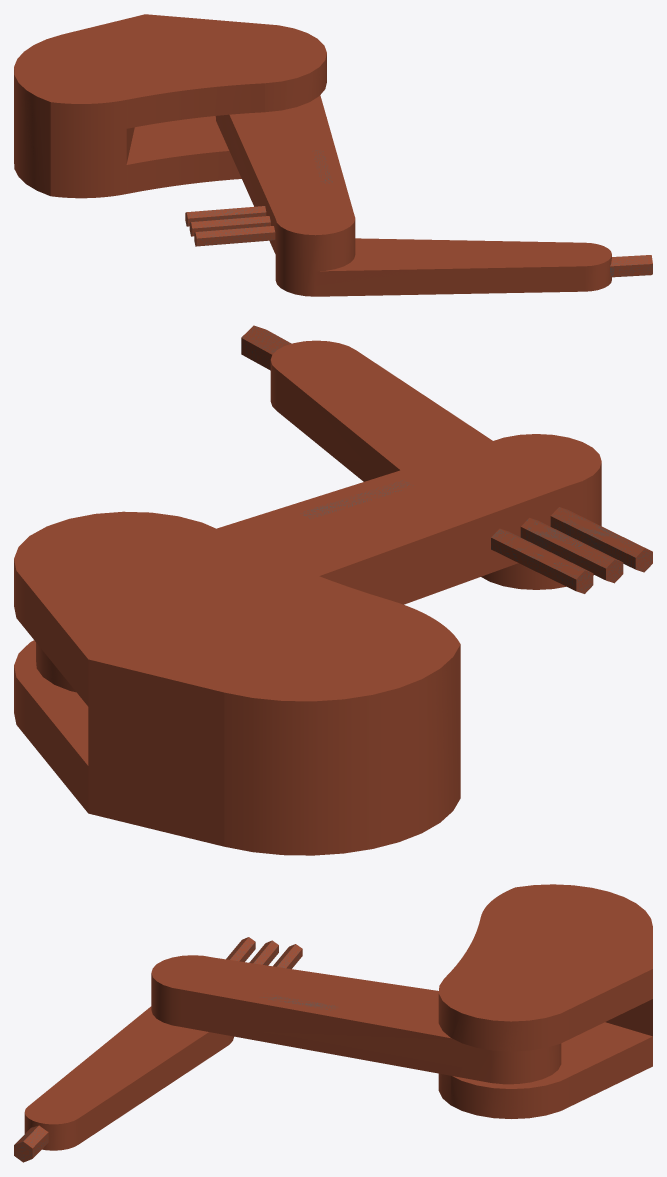
The model's file is robot_1.dae.
The picture shows the model from 3 angles, top to bottom: view 1: azimuth 30°, elevation 25°; view 2: azimuth 150°, elevation 25°; view 3: azimuth 270°, elevation 25°; orthographic projection. The views are drawn at different scales.
Parts seen in each view (by area): view 1: coords_ME_ID3_MA___Beige_1, coords_ME_ID19_MA___Beige_1, coords_ME_ID31_MA___Beige_1, coords_ME_ID25_MA___Beige_1, coords_ME_ID11_MA___Beige_1, coords_ME_ID43_MA___Beige_1; view 2: coords_ME_ID3_MA___Beige_1, coords_ME_ID25_MA___Beige_1, coords_ME_ID31_MA___Beige_1, coords_ME_ID19_MA___Beige_1, coords_ME_ID11_MA___Beige_1, coords_ME_ID43_MA___Beige_1, coords_ME_ID31_MA__96_96_96, coords_ME_ID19_MA__96_96_96; view 3: coords_ME_ID3_MA___Beige_1, coords_ME_ID11_MA___Beige_1, coords_ME_ID43_MA___Beige_1, coords_ME_ID25_MA___Beige_1, coords_ME_ID19_MA___Beige_1, coords_ME_ID31_MA___Beige_1.
Part boxes in pixels (bbox=[...]): coords_ME_ID3_MA___Beige_1: bbox=[14, 14, 611, 296]; coords_ME_ID19_MA___Beige_1: bbox=[194, 226, 275, 246]; coords_ME_ID31_MA___Beige_1: bbox=[189, 216, 270, 236]; coords_ME_ID25_MA___Beige_1: bbox=[185, 206, 266, 226]; coords_ME_ID11_MA___Beige_1: bbox=[610, 255, 652, 277]; coords_ME_ID43_MA___Beige_1: bbox=[312, 149, 332, 183]; coords_ME_ID3_MA___Beige_1: bbox=[14, 340, 601, 855]; coords_ME_ID25_MA___Beige_1: bbox=[491, 528, 593, 593]; coords_ME_ID31_MA___Beige_1: bbox=[520, 518, 623, 583]; coords_ME_ID19_MA___Beige_1: bbox=[550, 507, 652, 572]; coords_ME_ID11_MA___Beige_1: bbox=[241, 325, 291, 370]; coords_ME_ID43_MA___Beige_1: bbox=[299, 480, 414, 519]; coords_ME_ID31_MA__96_96_96: bbox=[521, 519, 622, 582]; coords_ME_ID19_MA__96_96_96: bbox=[550, 508, 652, 571]; coords_ME_ID3_MA___Beige_1: bbox=[24, 884, 652, 1150]; coords_ME_ID11_MA___Beige_1: bbox=[14, 1125, 48, 1162]; coords_ME_ID43_MA___Beige_1: bbox=[259, 993, 338, 1011]; coords_ME_ID25_MA___Beige_1: bbox=[273, 944, 302, 968]; coords_ME_ID19_MA___Beige_1: bbox=[226, 937, 255, 961]; coords_ME_ID31_MA___Beige_1: bbox=[249, 940, 278, 965].
Bounding box in the file's own units: 9.54 × 2.3 × 13.66.
